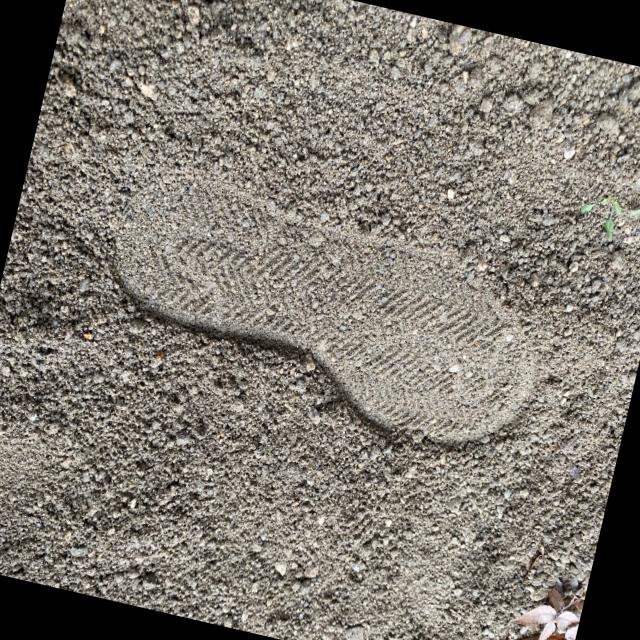human_footprint: (81, 158, 584, 458)
